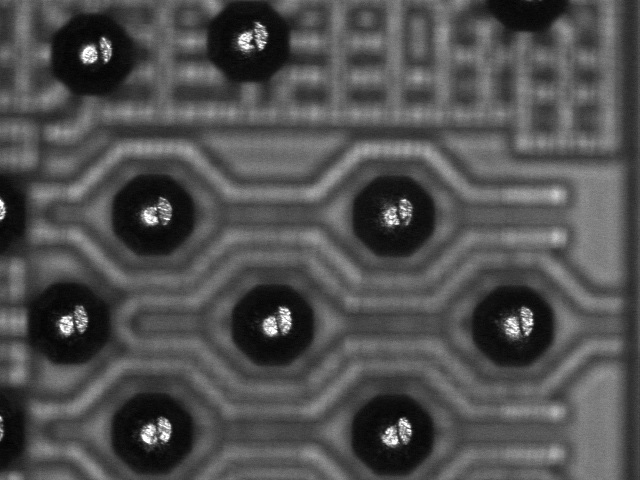shift: (347, 171, 446, 264), (44, 8, 143, 100), (104, 168, 203, 260), (20, 277, 119, 369), (103, 387, 202, 479), (223, 279, 322, 371), (465, 278, 564, 370), (342, 388, 441, 480), (199, 1, 298, 92)
